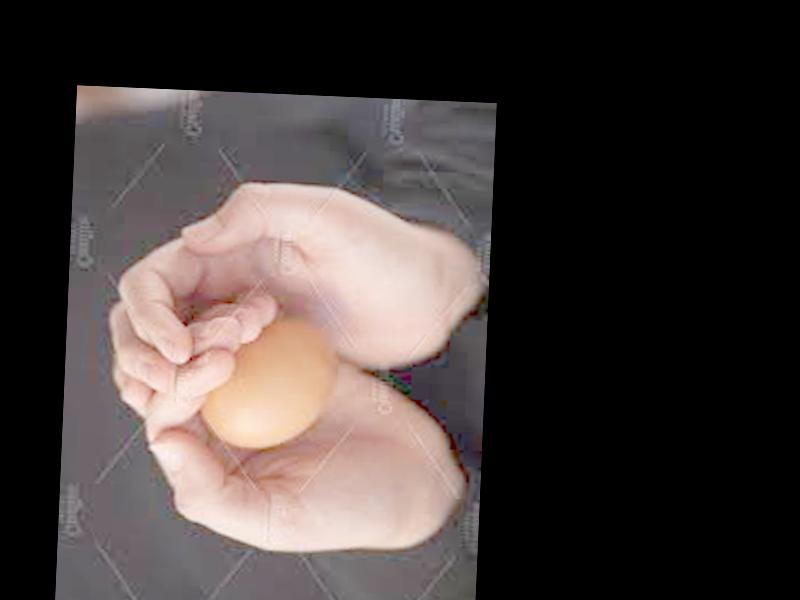Eggs: (203, 308, 340, 452)
